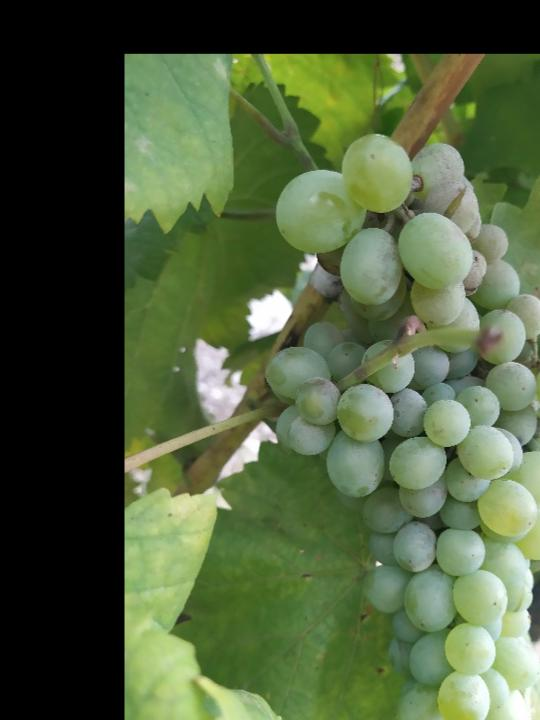grape: (261, 125, 540, 720)
